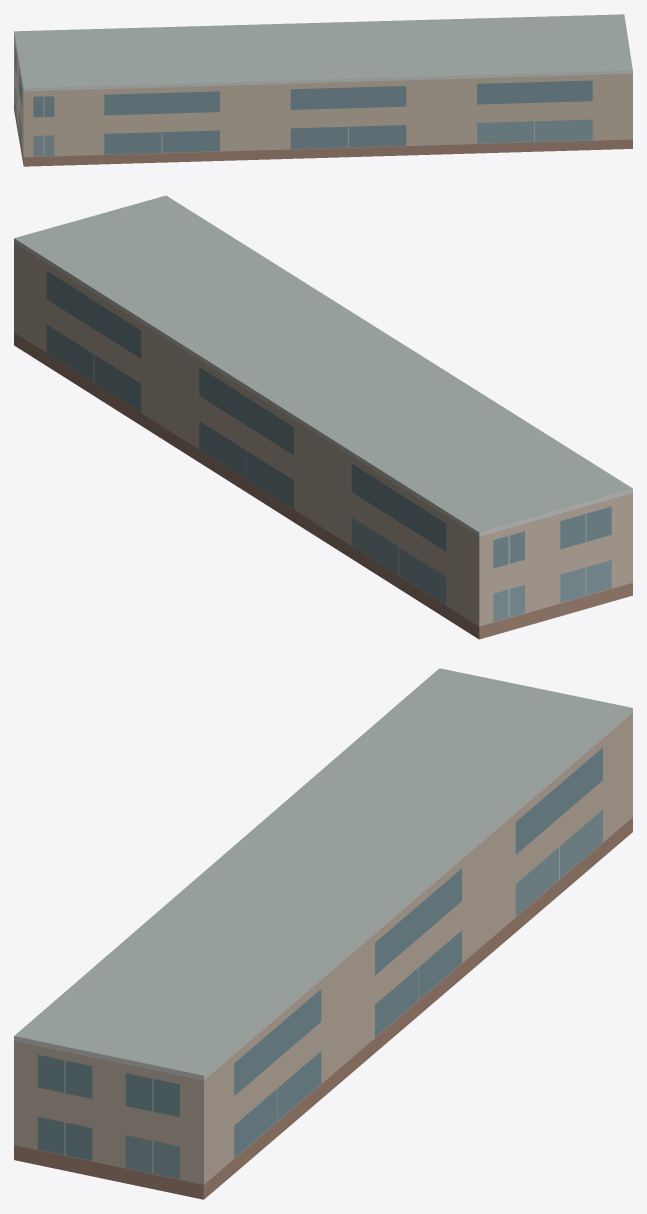
Rendered from survey-upis-32491914.glb.
The picture shows the model from 3 angles, top to bottom: view 1: azimuth 30°, elevation 25°; view 2: azimuth 150°, elevation 25°; view 3: azimuth 270°, elevation 25°; orthographic projection. The views are drawn at different scales.
Visible parts, largest first — view 1: survey-upis-32491914.tmp; view 2: survey-upis-32491914.tmp; view 3: survey-upis-32491914.tmp.
Part boxes in pixels (x1,y1,x2,y2): survey-upis-32491914.tmp: [14, 14, 632, 166]; survey-upis-32491914.tmp: [14, 195, 632, 639]; survey-upis-32491914.tmp: [14, 668, 632, 1199].
Bounding box in the file's own units: 42.97 × 6.1 × 27.58.
